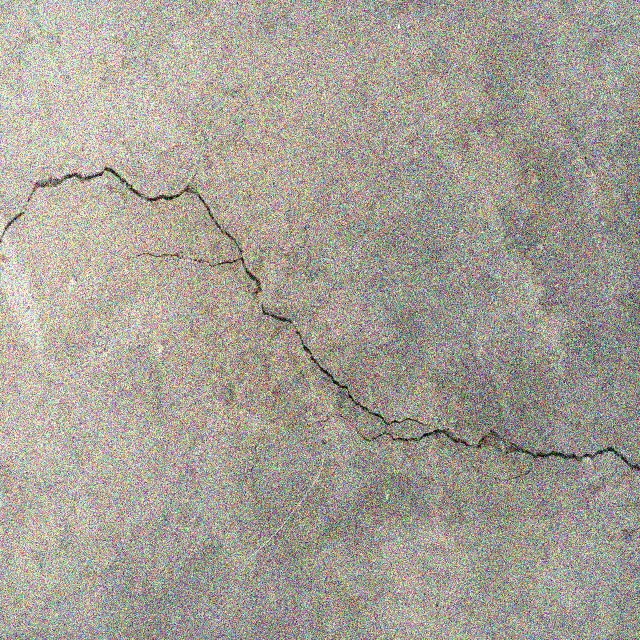SurfaceCrack: (0, 127, 639, 533)
